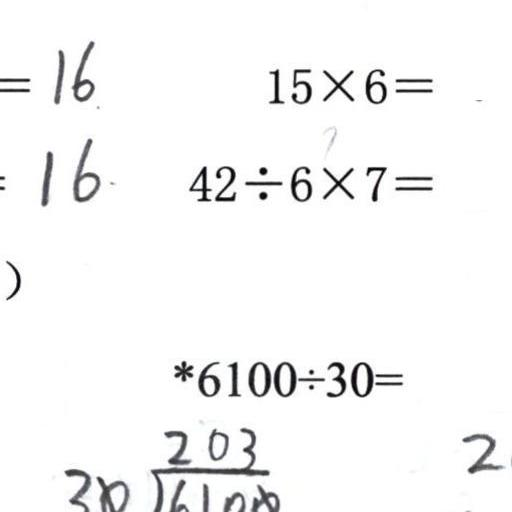ans: (32, 133, 100, 206), (46, 36, 96, 104)
